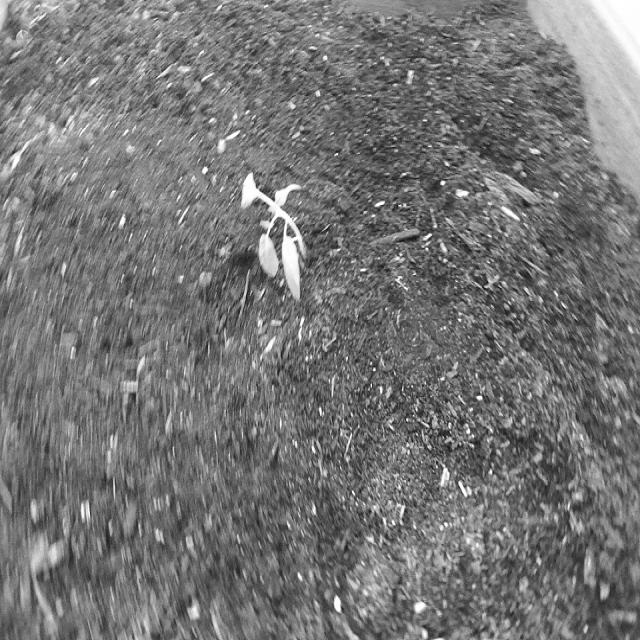Healthy: (231, 156, 330, 319)
